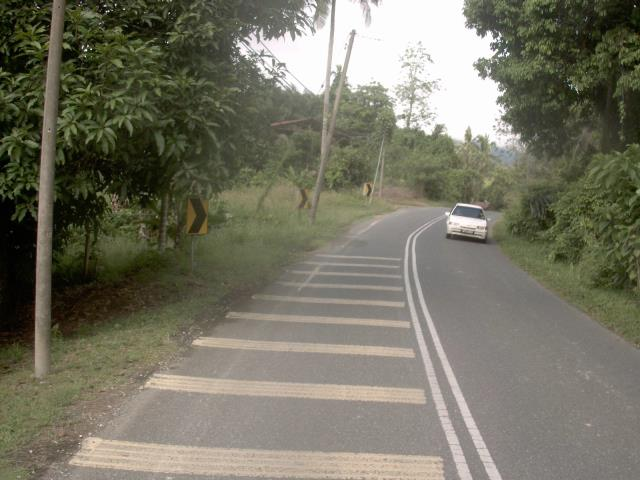traffic_sign: (177, 190, 216, 243)
